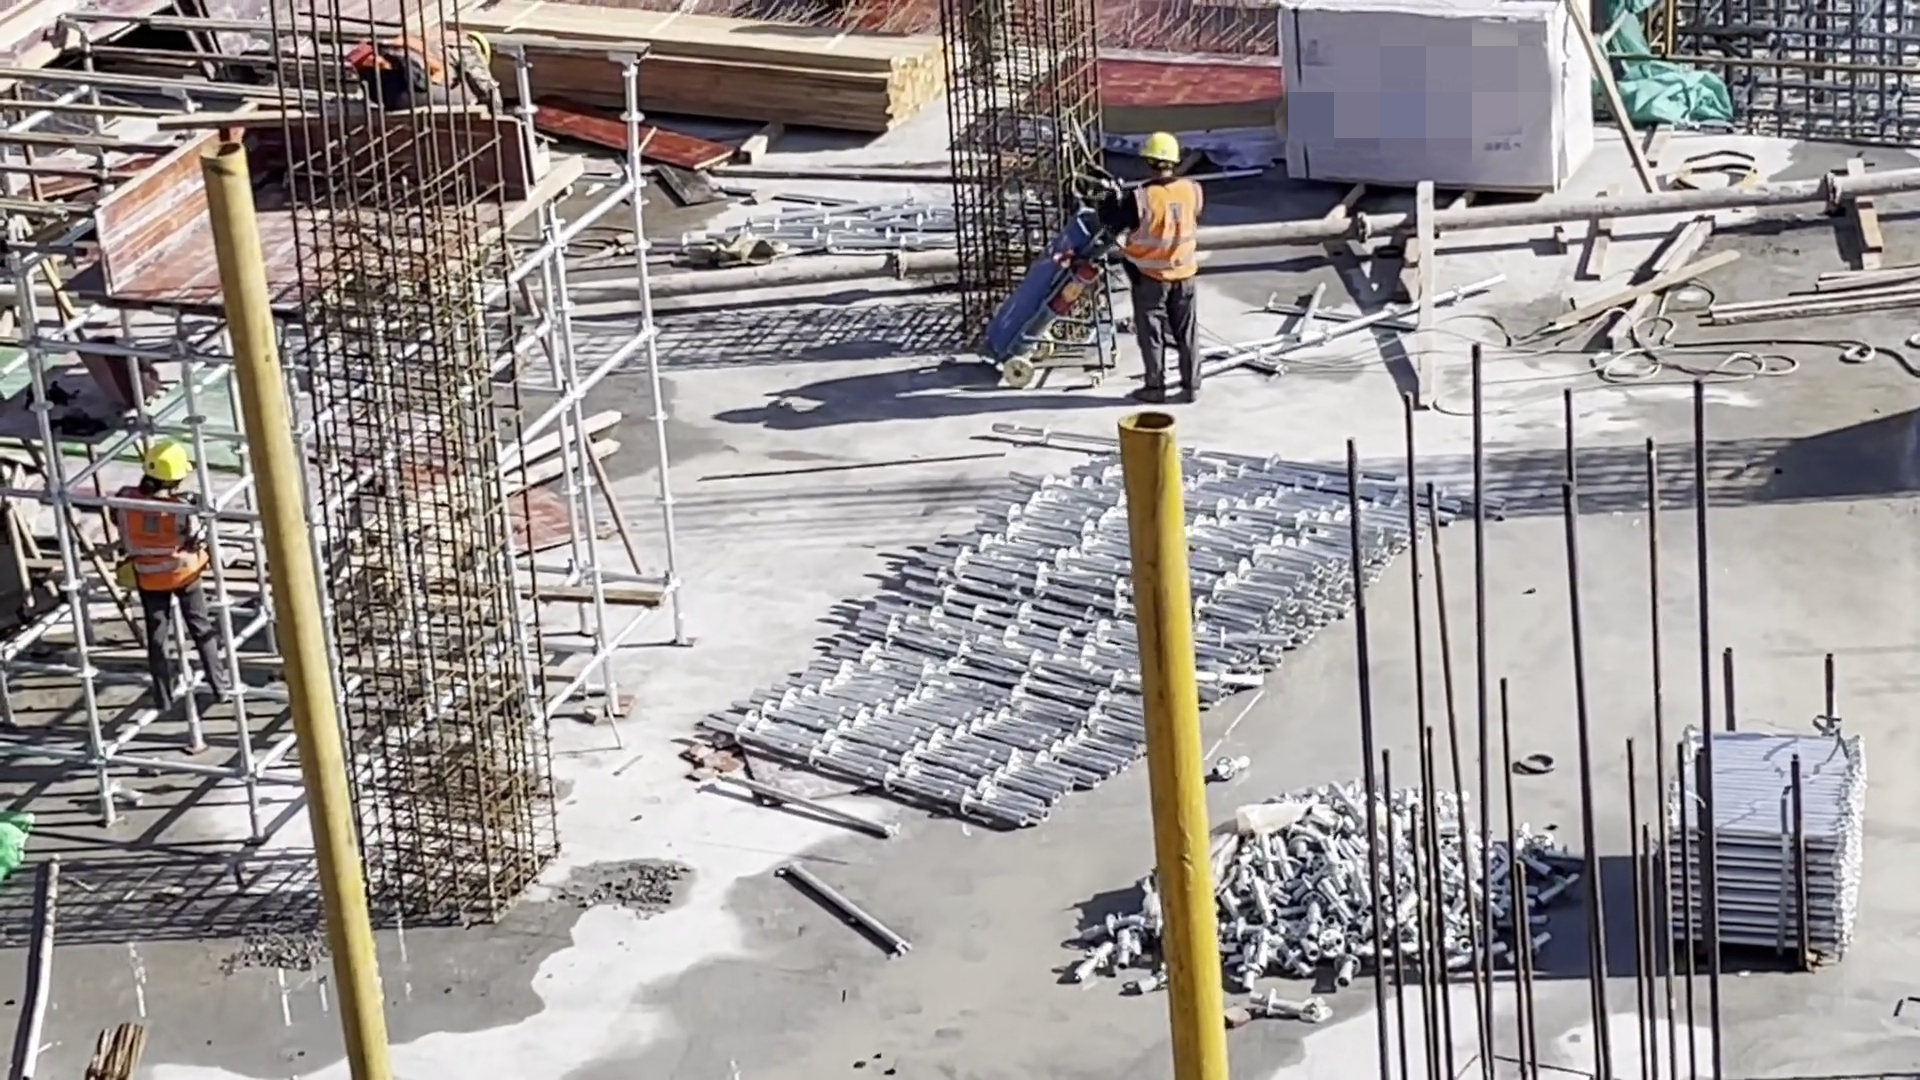helmet: (140, 438, 198, 487), (1136, 131, 1180, 161)
person: (115, 434, 243, 713), (1114, 131, 1215, 404), (355, 31, 499, 112)
scaffold: (698, 435, 1504, 827), (1657, 720, 1862, 955)
vest: (117, 488, 213, 594), (1125, 179, 1203, 282), (355, 35, 465, 82)
wood: (494, 6, 944, 131)
